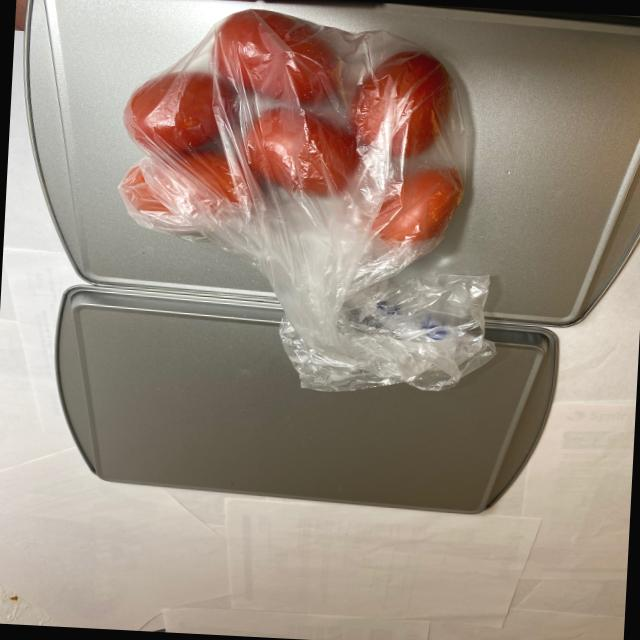tomato: (114, 5, 483, 264)
